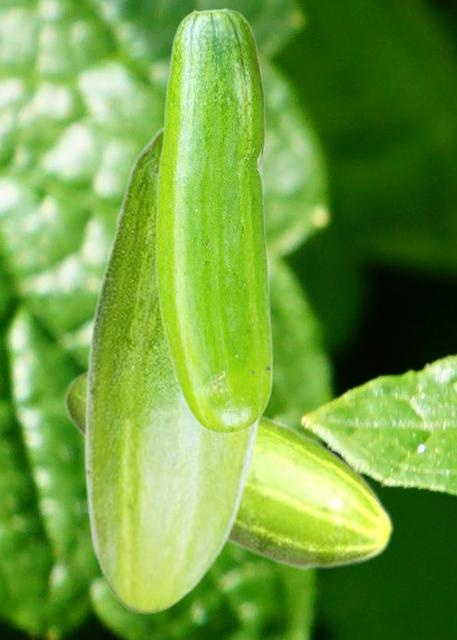cucumber: (83, 123, 264, 613), (63, 367, 394, 571), (155, 7, 272, 433)
